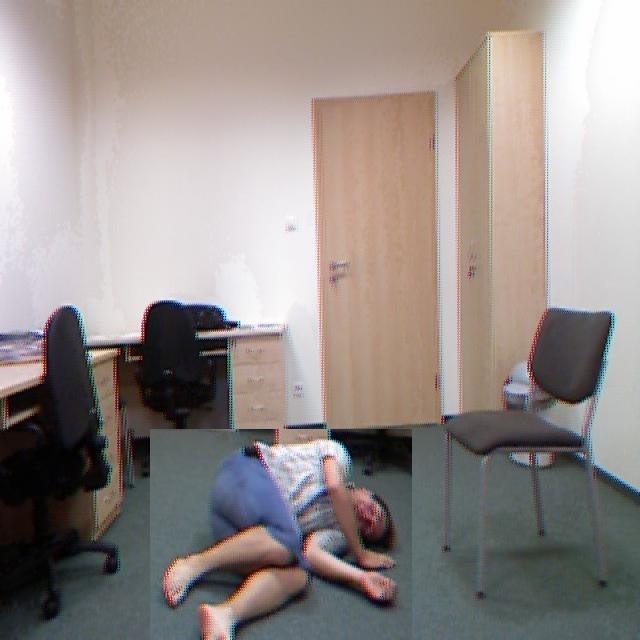Fall: (145, 416, 411, 640)
